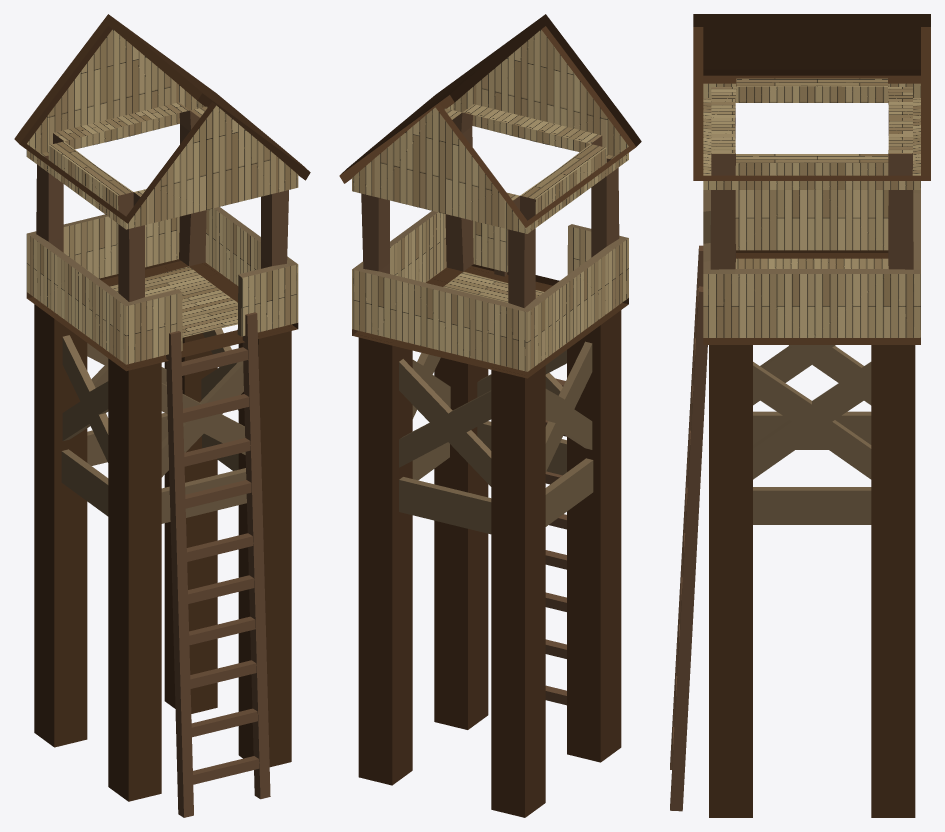
Rendered from Outpost.glb.
3 renders of one model, left to right at view 1: azimuth 30°, elevation 25°; view 2: azimuth 150°, elevation 25°; view 3: azimuth 270°, elevation 25°, orthographic. The views are drawn at different scales.
Visible parts, largest first — view 1: Cube; view 2: Cube; view 3: Cube.
Boxes of the visible parts, bbox=[...] form: Cube: bbox=[14, 14, 310, 817]; Cube: bbox=[339, 14, 641, 817]; Cube: bbox=[670, 14, 930, 817].
Bounding box in the file's own units: 2.3 × 8.27 × 2.53.
4 materials, 1 textured.
